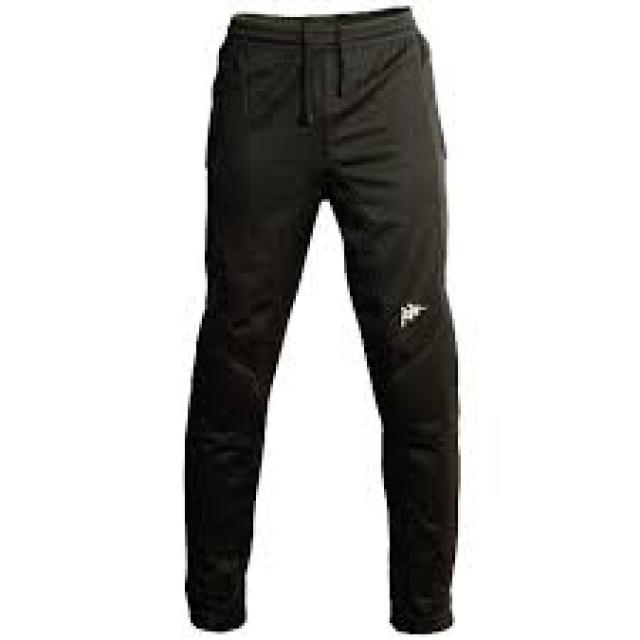long-pants: (181, 6, 462, 636)
